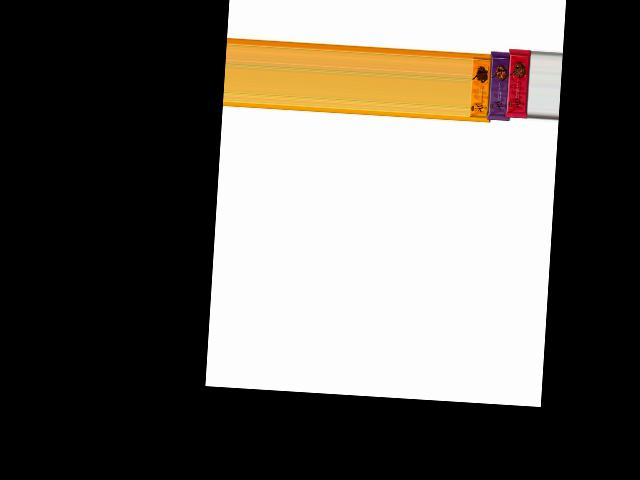chocolate: (505, 44, 532, 121)
